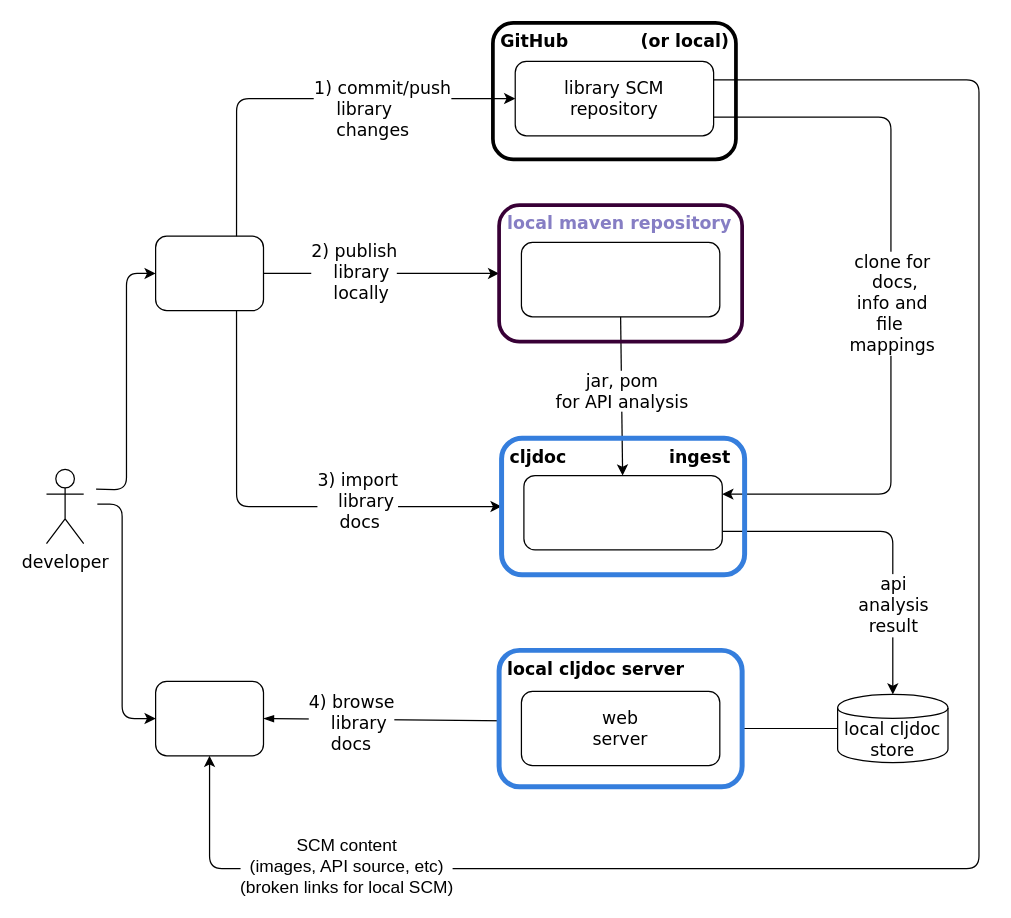
Some shapes in this 1011 by 918 pixel diagram are drawn without their labels. The centre of each missing label's shape, as x and y in pixels:
cljdoc api local analysis: point (622, 512)
command line: point (209, 273)
library artifact: point (620, 279)
web browser: point (209, 718)
